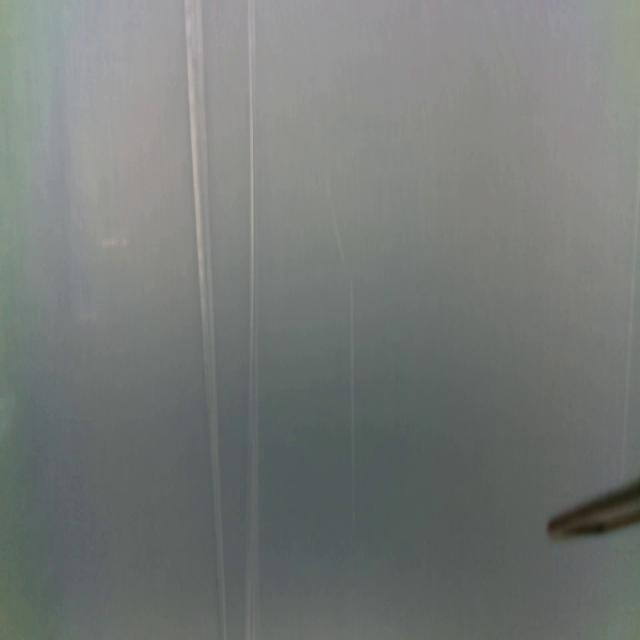crease: (183, 0, 227, 640), (240, 0, 258, 639), (619, 194, 640, 476), (348, 276, 358, 590)
